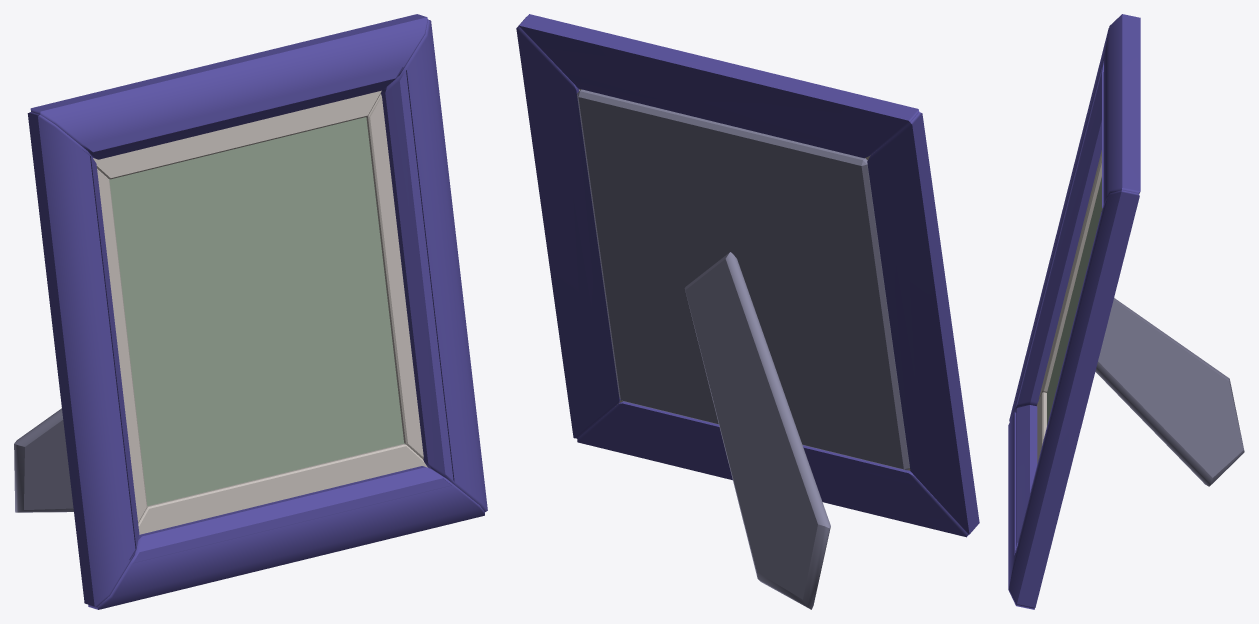
The model's file is PictureFrame_Standing 1.fbx.
The picture shows the model from 3 angles, left to right: view 1: azimuth 30°, elevation 25°; view 2: azimuth 150°, elevation 25°; view 3: azimuth 270°, elevation 25°; orthographic projection. The views are drawn at different scales.
Visible parts, largest first — view 1: PictureFrameStanding_Photo, FrameOuterEdge_3, FrameOuterEdge_2, FrameOuterEdge_1, FrameOuterEdge_4, PictureFrameStanding_InnerFrame2, PictureFrameStanding_InnerFrame1, PictureFrameStanding_Stand; view 2: PictureFrameStanding_Back, PictureFrameStanding_Stand, FrameOuterEdge_3, FrameOuterEdge_1, FrameOuterEdge_2, FrameOuterEdge_4; view 3: FrameOuterEdge_2, PictureFrameStanding_Stand, FrameOuterEdge_3, FrameOuterEdge_1, FrameOuterEdge_4, PictureFrameStanding_Photo, PictureFrameStanding_InnerFrame1, PictureFrameStanding_InnerFrame2.
Boxes of the visible parts, x1=… form: PictureFrameStanding_Photo: x1=109, y1=117, x2=404, y2=506; FrameOuterEdge_3: x1=27, y1=112, x2=139, y2=606; FrameOuterEdge_2: x1=381, y1=19, x2=487, y2=511; FrameOuterEdge_1: x1=30, y1=14, x2=427, y2=159; FrameOuterEdge_4: x1=88, y1=466, x2=484, y2=609; PictureFrameStanding_InnerFrame2: x1=93, y1=90, x2=427, y2=534; PictureFrameStanding_InnerFrame1: x1=97, y1=94, x2=423, y2=522; PictureFrameStanding_Stand: x1=14, y1=408, x2=73, y2=512; PictureFrameStanding_Back: x1=577, y1=89, x2=909, y2=470; PictureFrameStanding_Stand: x1=684, y1=252, x2=830, y2=609; FrameOuterEdge_3: x1=867, y1=112, x2=979, y2=534; FrameOuterEdge_1: x1=519, y1=14, x2=919, y2=158; FrameOuterEdge_2: x1=516, y1=17, x2=620, y2=438; FrameOuterEdge_4: x1=577, y1=401, x2=968, y2=537; FrameOuterEdge_2: x1=1009, y1=190, x2=1139, y2=607; PictureFrameStanding_Stand: x1=1095, y1=298, x2=1244, y2=486; FrameOuterEdge_3: x1=1009, y1=28, x2=1108, y2=421; FrameOuterEdge_1: x1=1102, y1=14, x2=1140, y2=208; FrameOuterEdge_4: x1=1008, y1=405, x2=1037, y2=609; PictureFrameStanding_Photo: x1=1047, y1=177, x2=1102, y2=425; PictureFrameStanding_InnerFrame1: x1=1039, y1=150, x2=1101, y2=399; PictureFrameStanding_InnerFrame2: x1=1037, y1=392, x2=1046, y2=463.
Bounding box in the file's own units: 0.4693 × 0.5264 × 0.266.
